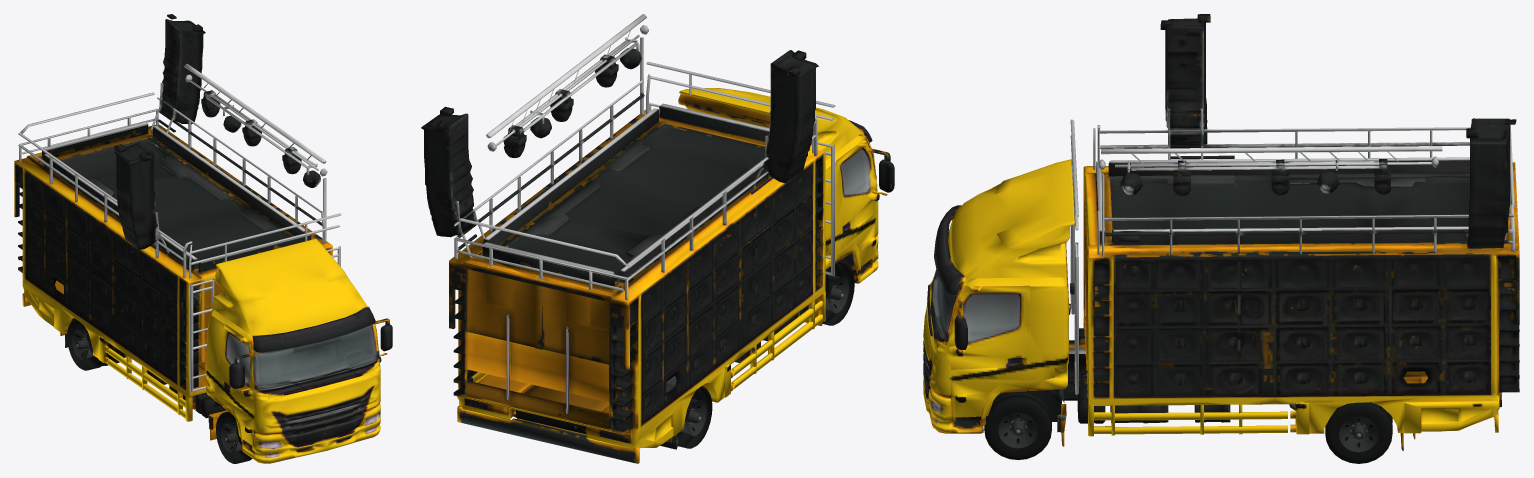
The model's file is caminhao-gm-2.glb.
The picture shows the model from 3 angles, left to right: view 1: azimuth 30°, elevation 25°; view 2: azimuth 150°, elevation 25°; view 3: azimuth 270°, elevation 25°; orthographic projection. The views are drawn at different scales.
Parts seen in each view (by area): view 1: Frota_truck, Tyre_Rear_L, Tyre_Front_L; view 2: Frota_truck, Tyre_Front_L, Tyre_Rear_L; view 3: Frota_truck, Tyre_Front_R, Tyre_Rear_R.
Part boxes in pixels (box(x1,y1,x2,y2)): Frota_truck: box(14, 14, 392, 463); Tyre_Rear_L: box(67, 319, 119, 370); Tyre_Front_L: box(216, 411, 252, 463); Frota_truck: box(421, 14, 894, 463); Tyre_Front_L: box(822, 261, 854, 325); Tyre_Rear_L: box(677, 386, 712, 448); Frota_truck: box(923, 14, 1519, 450); Tyre_Front_R: box(984, 391, 1051, 459); Tyre_Rear_R: box(1325, 402, 1392, 463).
Bounding box in the file's own units: 3.3 × 4.4 × 6.8.
Materials: 1 (1 with a texture image).
